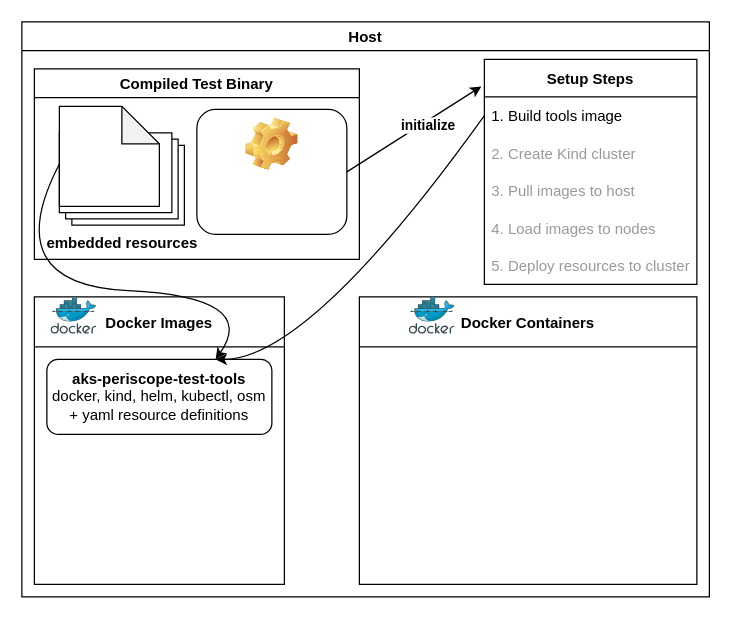
The diagram is 731 pixels wide and 619 high, and some of its shapes have lost their labels. The centre of each missing label's shape, as x and y in pixels:
"Dockerfile" goes at pixel 108 155.
"TestMain" goes at pixel 271 171.
